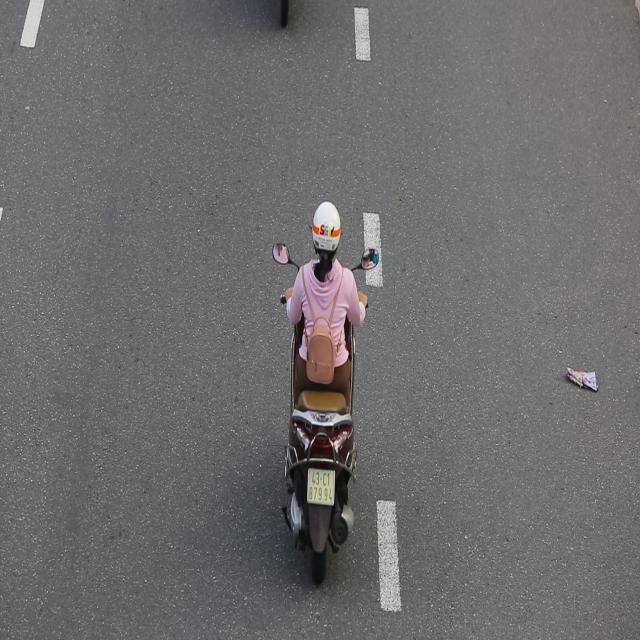motorbike: (271, 198, 378, 597)
